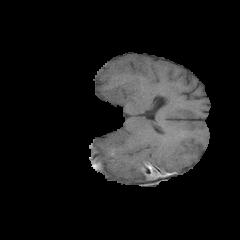glioma: (135, 134, 189, 180)
